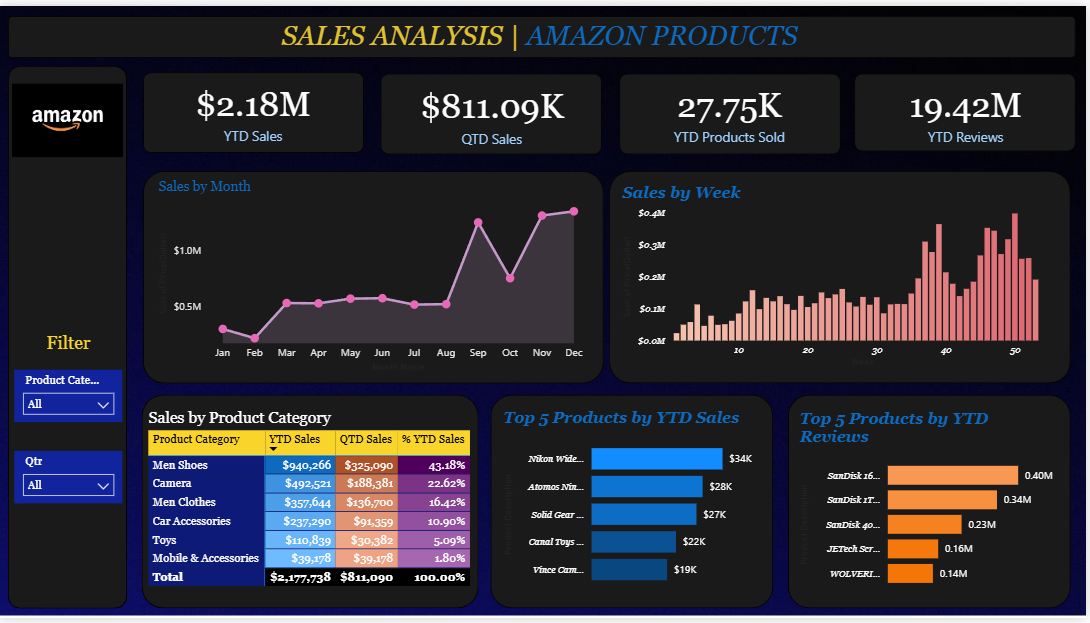

This screenshot's page, from the dashboard's own definition file:
{"tool":"powerbi","page":{"name":"Page 1","canvas":[1280,720],"ordinal":0},"visuals":[{"type":"shape","box":[450,78.4,260.6,95.3],"z":0,"group":"g1"},{"type":"shape","box":[12.1,12.1,1255.9,49.5],"z":0},{"type":"shape","box":[729.9,78.4,260.6,95.3],"z":1000,"group":"g1"},{"type":"textbox","box":[25.3,12.1,1224.5,49.5],"z":1000},{"type":"shape","box":[1007.4,78.4,260.6,91.7],"z":2000,"group":"g1"},{"type":"shape","box":[12.1,70,139.9,638.2],"z":2000},{"type":"card","fields":{"Values":["Amazon_Data.YTD Sales"]},"box":[183.4,77.2,232.8,92.9],"z":3000,"group":"g1"},{"type":"shape","box":[170.1,78.4,260,95],"z":3000},{"type":"card","fields":{"Values":["Amazon_Data.QTD Sales"]},"box":[464.5,80.8,232.8,92.9],"z":4000,"group":"g1"},{"type":"group","id":"g1","title":"Group 1","box":[183.4,77.2,1084.6,96.5],"z":4000},{"type":"card","fields":{"Values":["Amazon_Data.YTD Product Sold"]},"box":[743.2,78.4,232.8,92.9],"z":5000,"group":"g1"},{"type":"shape","box":[170.1,194.2,542,250],"z":5000},{"type":"card","fields":{"Values":["Amazon_Data.YTD Reviews"]},"box":[1021.9,78.4,232.8,92.9],"z":6000,"group":"g1"},{"type":"areaChart","title":"Sales by Month ","fields":{"Category":["Date Table.Month Name"],"Y":["Sum(Amazon_Data.Price(Dollar))"]},"box":[183.4,202.7,513.9,232.8],"z":6000},{"type":"shape","box":[719,194.2,542.9,249.7],"z":7000},{"type":"columnChart","title":"Sales by Week","fields":{"Category":["Date Table.Week Number"],"Y":["Sum(Amazon_Data.Price(Dollar))"]},"box":[729.9,208.7,520,220.8],"z":8000},{"type":"shape","box":[168.8,457.5,396.2,251.2],"z":9000},{"type":"shape","box":[580,457.5,332.5,251.2],"z":10000},{"type":"pivotTable","title":"Sales by Product Category","fields":{"Rows":["Amazon_Data.Product Category"],"Values":["Amazon_Data.YTD Sales1","Amazon_Data.QTD Sales","Amazon_Data.YTD Sales"]},"box":[172.5,473.8,388.8,221.2],"z":11000},{"type":"shape","box":[928.8,457.5,332.5,251.2],"z":12000},{"type":"clusteredBarChart","title":"Top 5 Products by YTD Sales ","fields":{"Category":["Amazon_Data.Product Description"],"Y":["Amazon_Data.YTD Sales"]},"box":[590,473.8,313.8,221.2],"z":13000},{"type":"clusteredBarChart","title":"Top 5 Products by YTD Reviews ","fields":{"Category":["Amazon_Data.Product Description"],"Y":["Amazon_Data.YTD Reviews"]},"box":[937.5,475,313.8,221.2],"z":14000},{"type":"slicer","fields":{"Values":["Amazon_Data.Product Category"]},"box":[18.8,427.5,127.5,61.2],"z":15000},{"type":"slicer","fields":{"Values":["Date Table.Qtr"]},"box":[18.8,523.8,127.5,61.2],"z":16000},{"type":"image","box":[12.1,70,139.9,127.9],"z":17000},{"type":"textbox","box":[18.8,378.8,127.5,48.8],"z":18000}]}

Visuals, with their boxes in screenshot pixels (x1, y1, x2, y2), scaled from the page's 1280x720 canvas onto the 1090x623 screenshot:
shape: select_region(383, 68, 605, 150)
shape: select_region(10, 10, 1080, 53)
shape: select_region(622, 68, 843, 150)
textbox: select_region(22, 10, 1064, 53)
shape: select_region(858, 68, 1080, 147)
shape: select_region(10, 61, 129, 613)
card - Amazon_Data.YTD Sales: select_region(156, 67, 354, 147)
shape: select_region(145, 68, 366, 150)
card - Amazon_Data.QTD Sales: select_region(396, 70, 594, 150)
"Group 1" group: select_region(156, 67, 1080, 150)
card - Amazon_Data.YTD Product Sold: select_region(633, 68, 831, 148)
shape: select_region(145, 168, 606, 384)
card - Amazon_Data.YTD Reviews: select_region(870, 68, 1068, 148)
"Sales by Month " areaChart: select_region(156, 175, 594, 377)
shape: select_region(612, 168, 1075, 384)
"Sales by Week" columnChart: select_region(622, 181, 1064, 372)
shape: select_region(144, 396, 481, 613)
shape: select_region(494, 396, 777, 613)
"Sales by Product Category" pivotTable: select_region(147, 410, 478, 601)
shape: select_region(791, 396, 1074, 613)
"Top 5 Products by YTD Sales " clusteredBarChart: select_region(502, 410, 770, 601)
"Top 5 Products by YTD Reviews " clusteredBarChart: select_region(798, 411, 1066, 602)
slicer - Amazon_Data.Product Category: select_region(16, 370, 125, 423)
slicer - Date Table.Qtr: select_region(16, 453, 125, 506)
image: select_region(10, 61, 129, 171)
textbox: select_region(16, 328, 125, 370)
